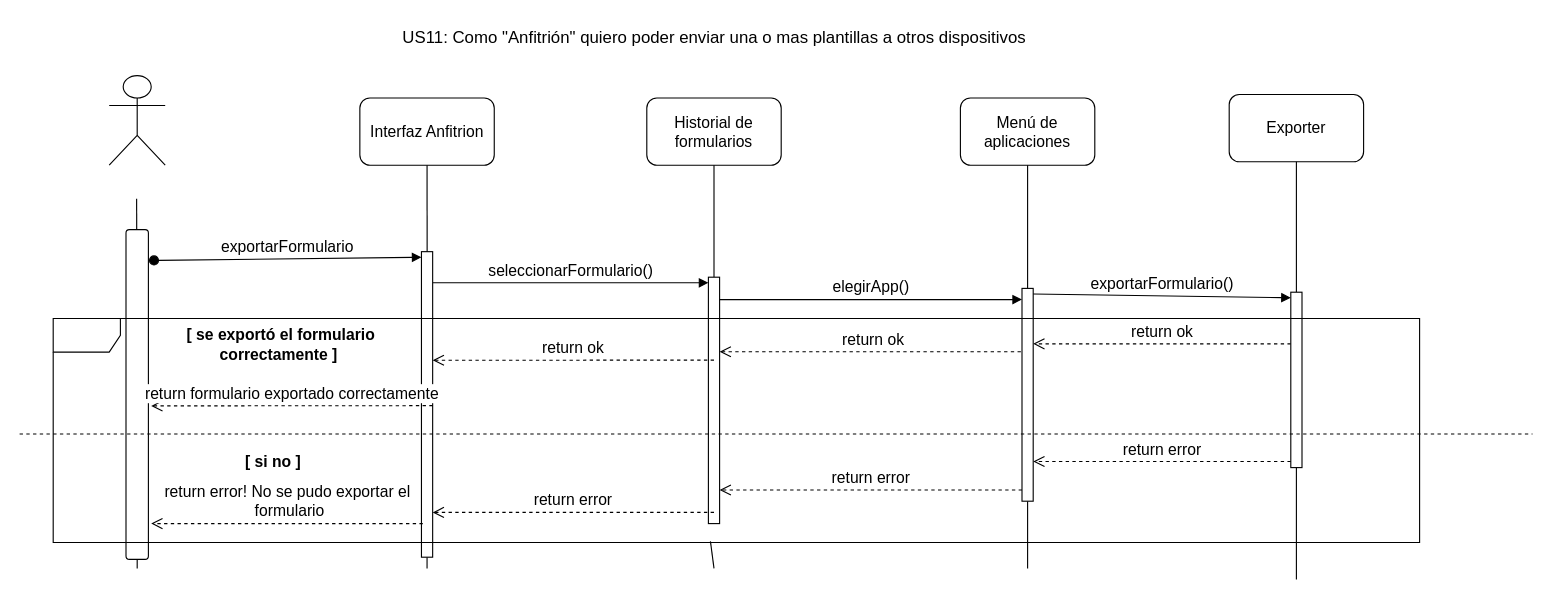
Some shapes in this 1553 by 600 pixel diagram are drawn without their labels. The shapes that lost their labels are listed below. From the top down, each one's box as (x1, y1, x2, y2) in pixels, then its label:
(108, 74, 165, 165): Anfitrión
(52, 317, 1420, 543): ALT
